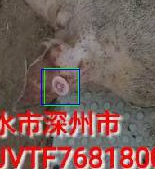text: (44, 68, 78, 105)
